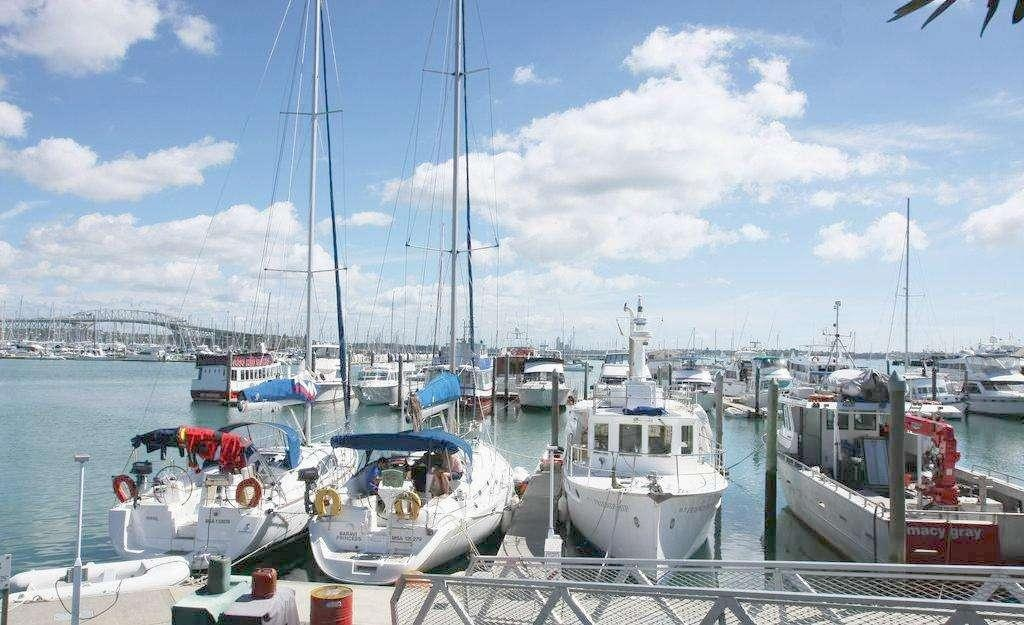otherboat: (758, 356, 1024, 567), (546, 293, 736, 563), (292, 419, 515, 586), (105, 430, 334, 565)
